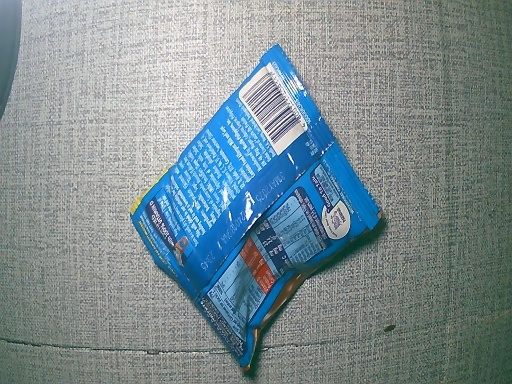plastic: (127, 43, 384, 374)
